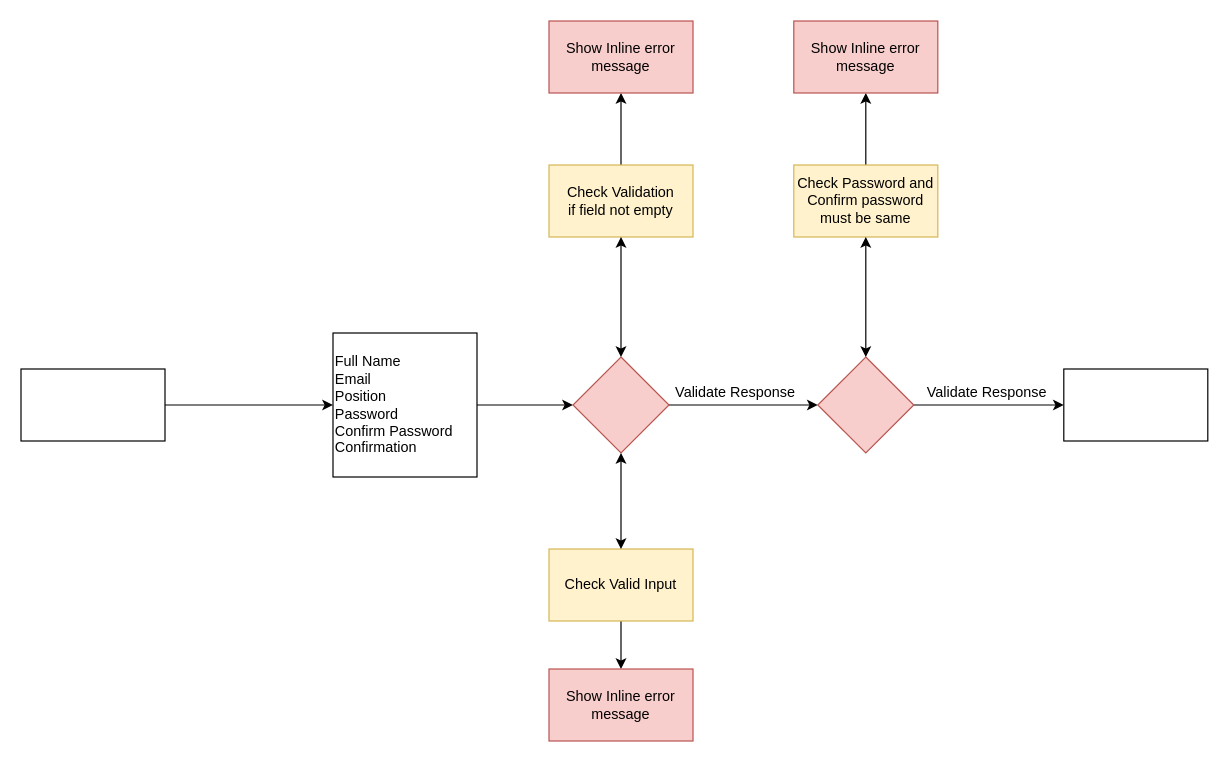
This 1229x762 diagram has some shape labels left out. The shapes that lost their labels are listed below. From the top down, each one's box as (x1, y1, x2, y2) in pixels, then its label:
(20, 368, 165, 441): Registration
(1063, 368, 1208, 441): Form Submitted
